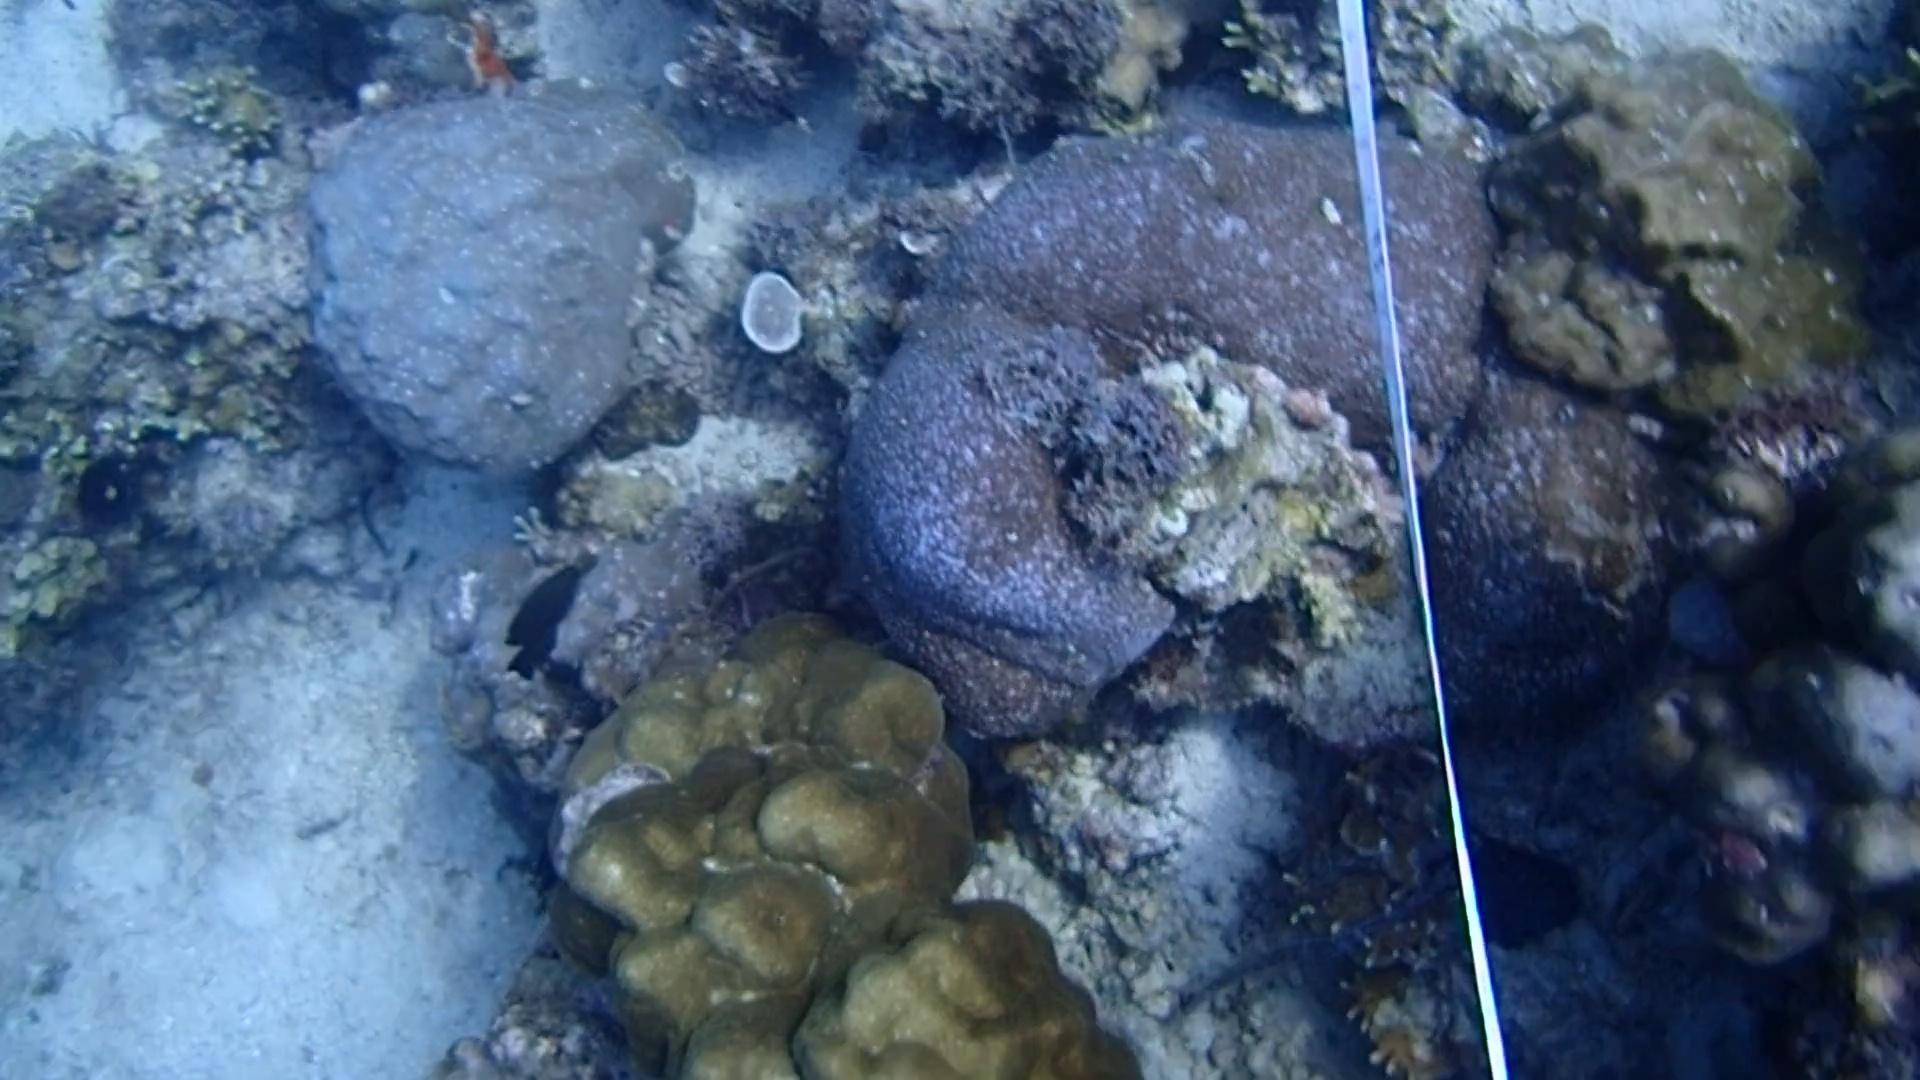Dark Fish: (504, 551, 587, 684)
